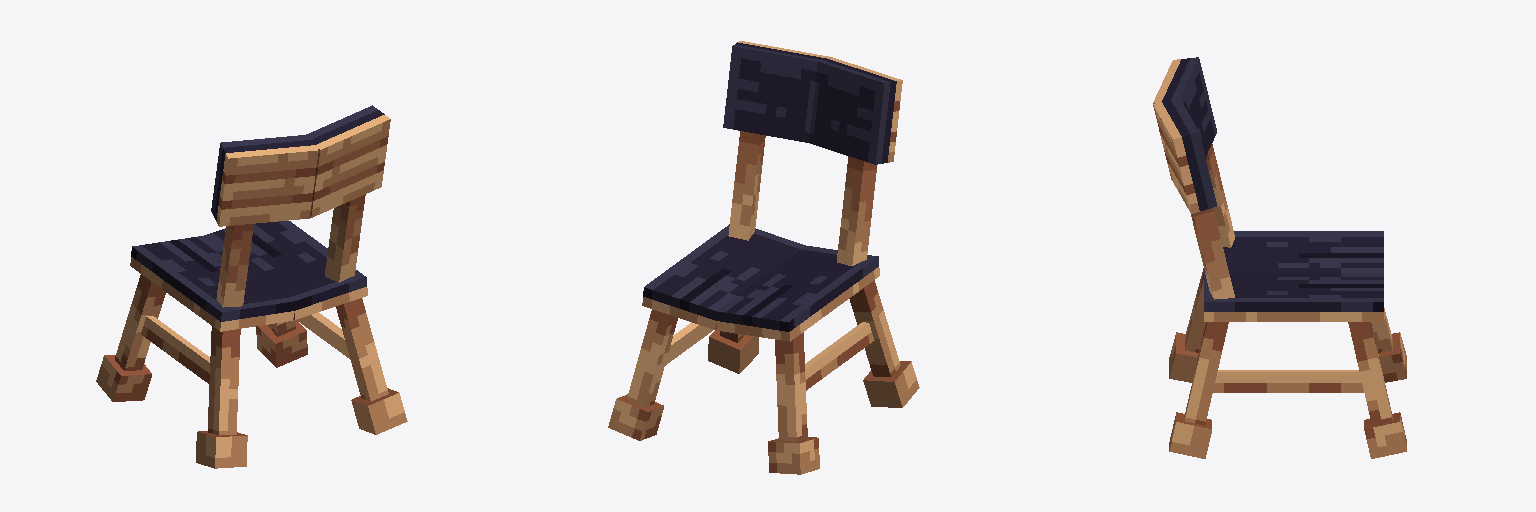
3 renders of one model, left to right at view 1: azimuth 30°, elevation 25°; view 2: azimuth 150°, elevation 25°; view 3: azimuth 270°, elevation 25°, orthographic.
Parts seen in each view (by area): view 1: cuboid; view 2: cuboid; view 3: cuboid.
Part boxes in pixels (left/top/right/bottom): cuboid: left=96, top=105, right=407, bottom=468; cuboid: left=608, top=41, right=919, bottom=474; cuboid: left=1153, top=57, right=1406, bottom=458.
Bounding box in the file's own units: 1.33 × 2.11 × 1.5.
Materials: 1 (1 with a texture image).